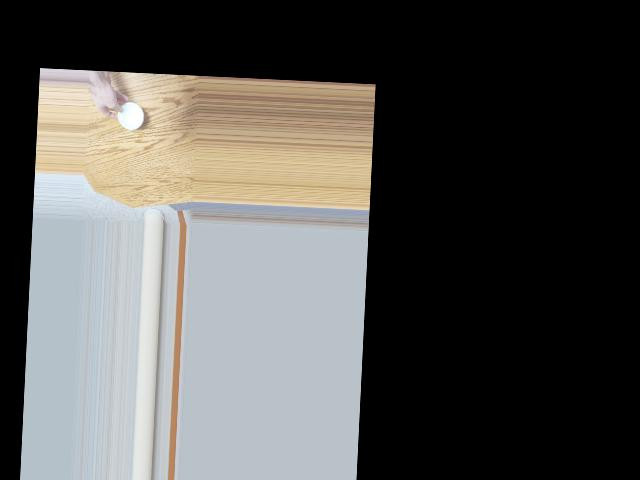cotage: (111, 94, 145, 130)
